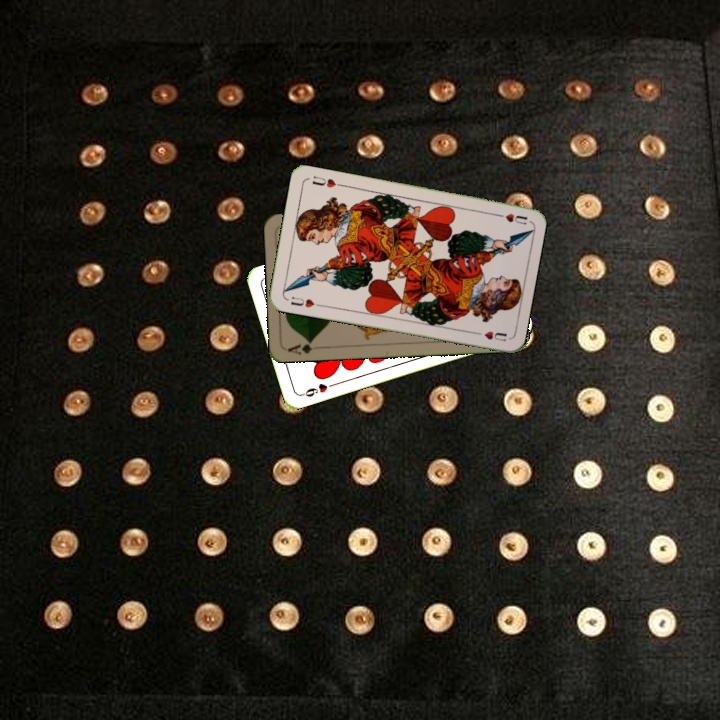GA: (284, 336, 324, 357)
H9: (298, 379, 337, 400)
HU: (490, 209, 530, 227), (287, 293, 317, 310)
